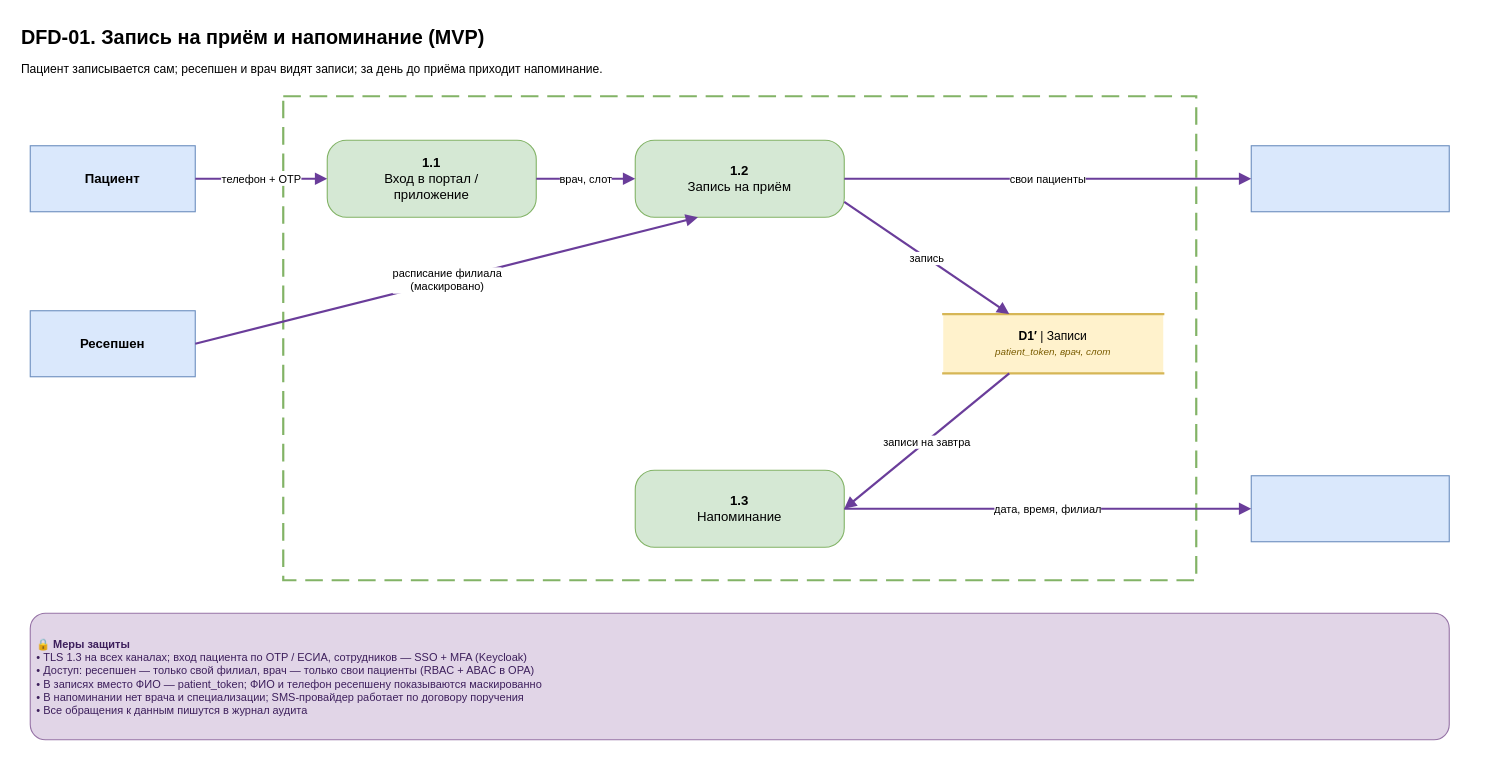
This 1489x759 diagram has some shape labels left out. Each missing label, with the box of its shape:
SMS / Push-провайдер: (1250, 475, 1449, 542)
Защищённый контур (облако / ЦОД в РФ): (282, 95, 1197, 581)
Медицинский специалист: (1250, 145, 1449, 212)
